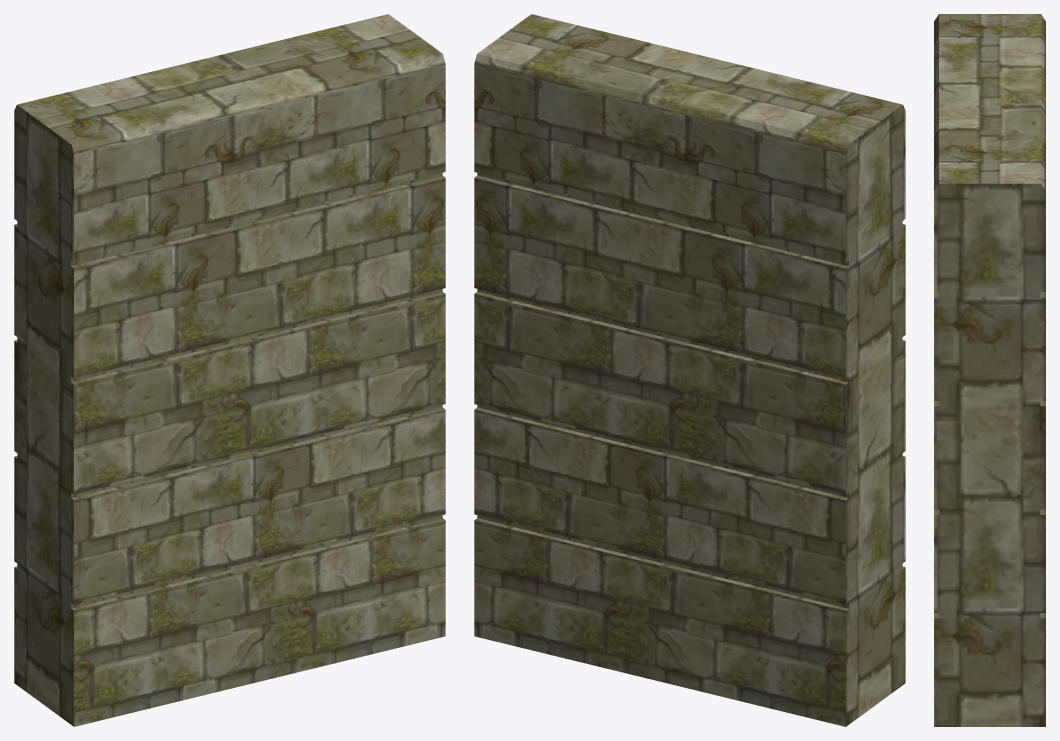
File: wall-01.fbx
3 views of the same model, side by side, from view 1: azimuth 30°, elevation 25°; view 2: azimuth 150°, elevation 25°; view 3: azimuth 270°, elevation 25° (orthographic). The views are drawn at different scales.
Parts seen in each view (by area): view 1: Cube.159; view 2: Cube.159; view 3: Cube.159.
Part boxes in pixels (box(x1,y1,x2,y2)): Cube.159: box(14, 14, 445, 726); Cube.159: box(474, 14, 905, 726); Cube.159: box(934, 14, 1045, 726).
Size of the model in its own units: 1.61 by 2.4 by 0.448.
